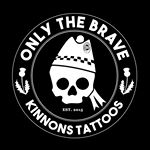other: (44, 34, 106, 112)
